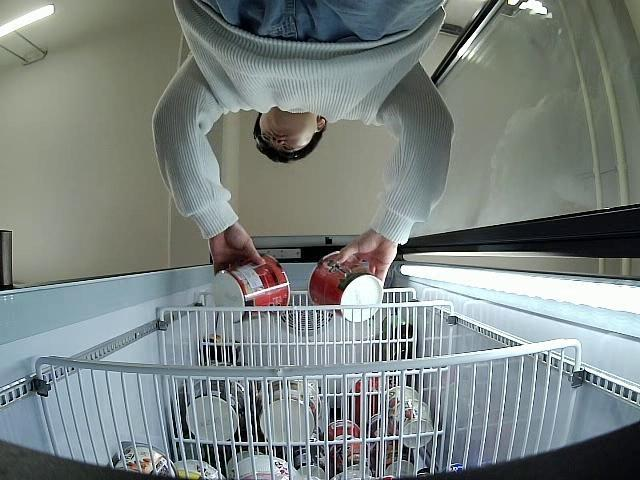01_ShinRamen_L: (308, 250, 382, 321), (212, 258, 290, 324)
